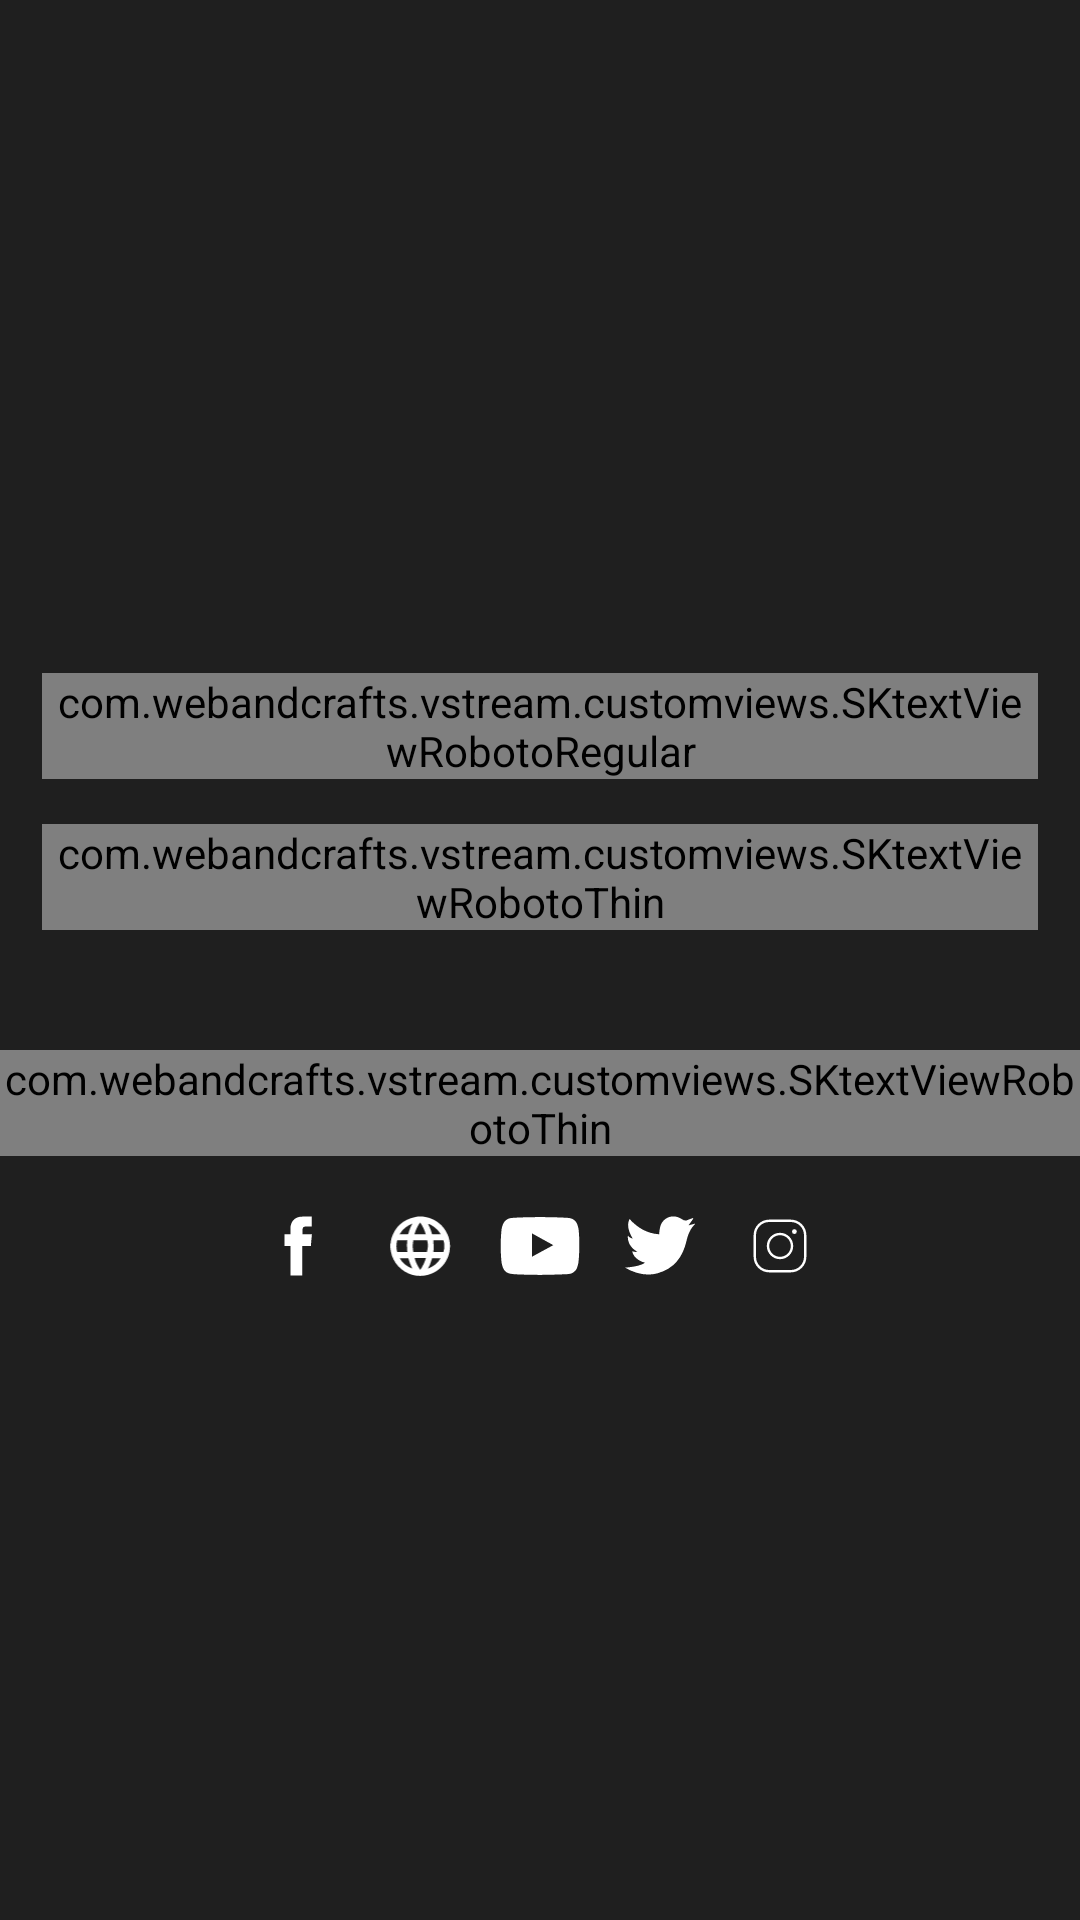

Icon click points for this 1080*1920 phone screenshot, format [x,y]:
website: [420,1246]
